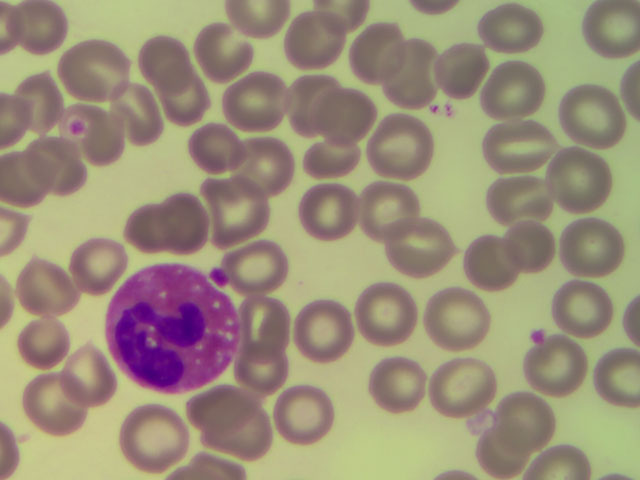Platelets: (526, 325, 549, 345)
RBC: (478, 426, 529, 480), (589, 348, 640, 402), (13, 1, 64, 54), (68, 38, 119, 91), (16, 74, 67, 127), (33, 147, 84, 200), (3, 157, 54, 210), (83, 102, 134, 155), (113, 81, 164, 134), (131, 30, 182, 83), (172, 82, 223, 135), (195, 17, 246, 70), (290, 5, 341, 58), (310, 2, 361, 55), (350, 22, 401, 75), (283, 73, 334, 126), (238, 76, 289, 129), (175, 116, 226, 169), (243, 134, 294, 187), (206, 186, 257, 239), (176, 193, 227, 246), (117, 203, 168, 256), (63, 235, 114, 288), (18, 261, 69, 314), (16, 318, 67, 371), (60, 346, 111, 399), (33, 379, 84, 432), (127, 416, 178, 469), (190, 385, 241, 438), (219, 413, 270, 466), (274, 391, 325, 444), (241, 344, 292, 397), (237, 300, 288, 353), (237, 237, 288, 290), (295, 305, 346, 358), (300, 184, 351, 237), (357, 183, 408, 236), (391, 226, 442, 279), (359, 288, 410, 341), (372, 354, 423, 407), (435, 362, 486, 415), (434, 291, 485, 344), (459, 236, 510, 289), (500, 220, 551, 273), (494, 176, 545, 229), (490, 109, 541, 162), (491, 60, 542, 113), (486, 6, 537, 59), (434, 43, 485, 96), (390, 46, 441, 99), (556, 152, 607, 205), (563, 81, 614, 134), (566, 221, 617, 274), (556, 283, 607, 336), (531, 344, 582, 397), (498, 394, 549, 447), (229, 1, 280, 53), (589, 1, 640, 53)
WBC: (108, 267, 230, 390)
